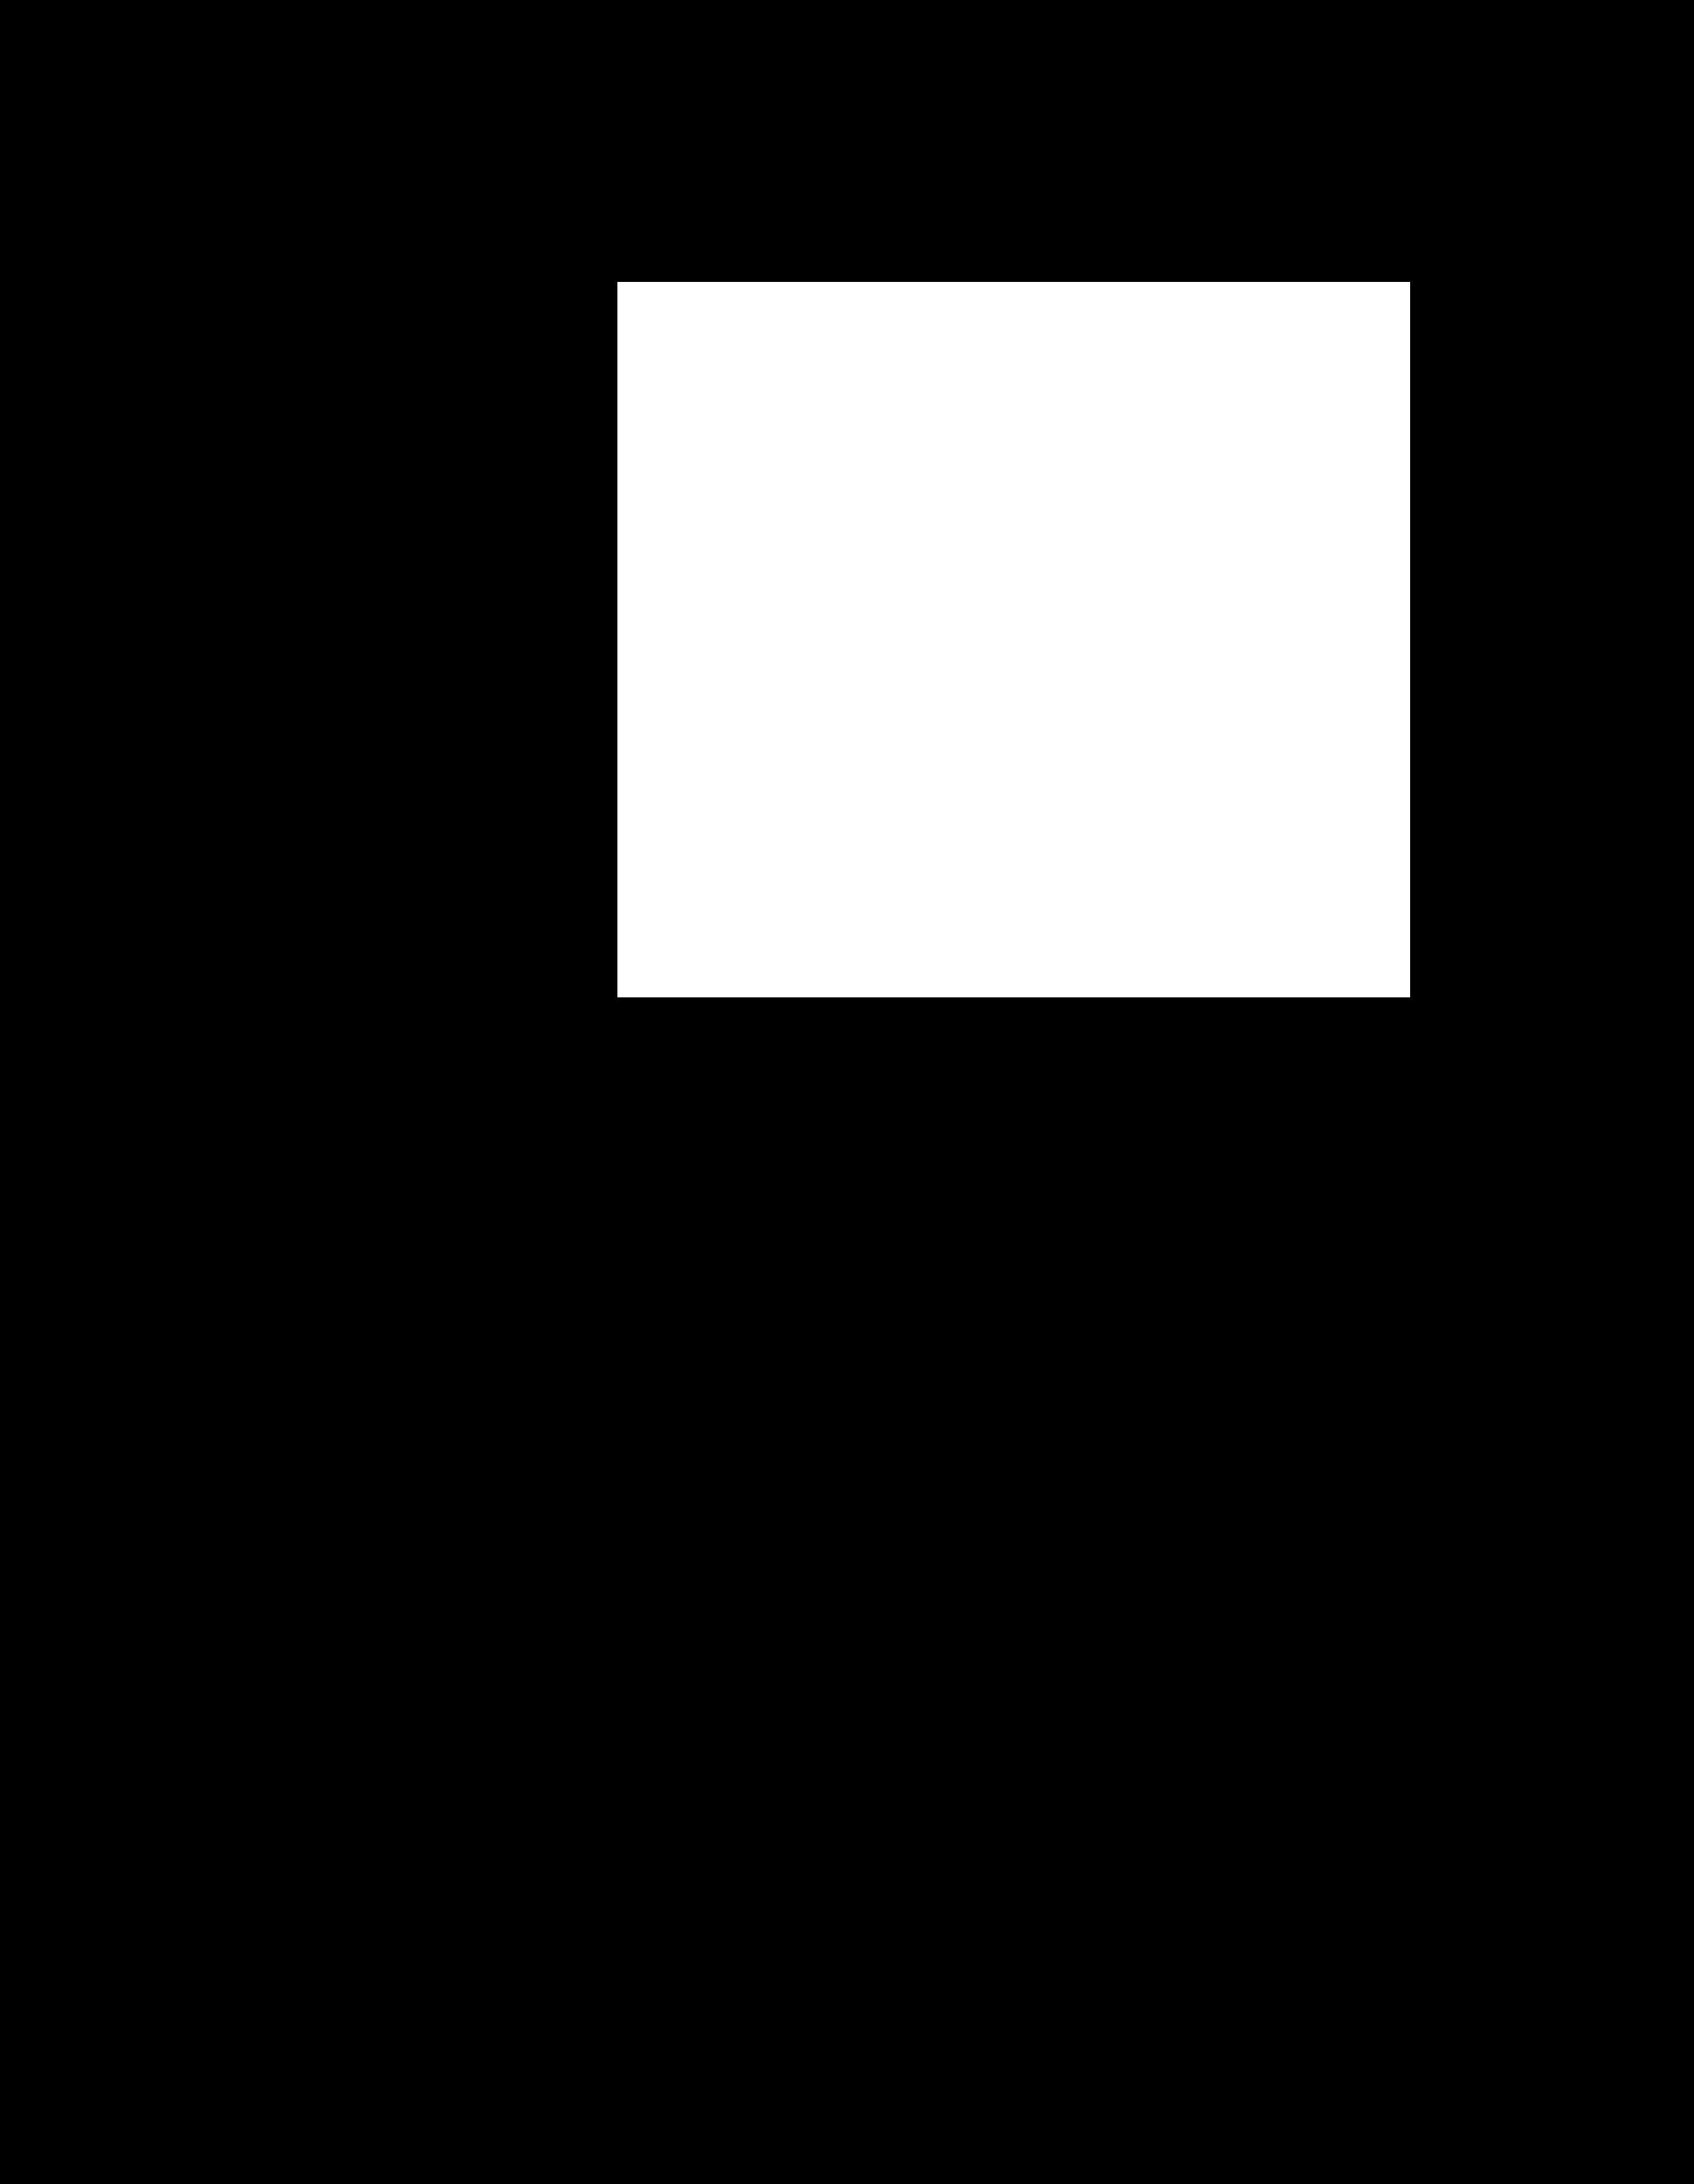table: (617, 282, 1409, 996)
